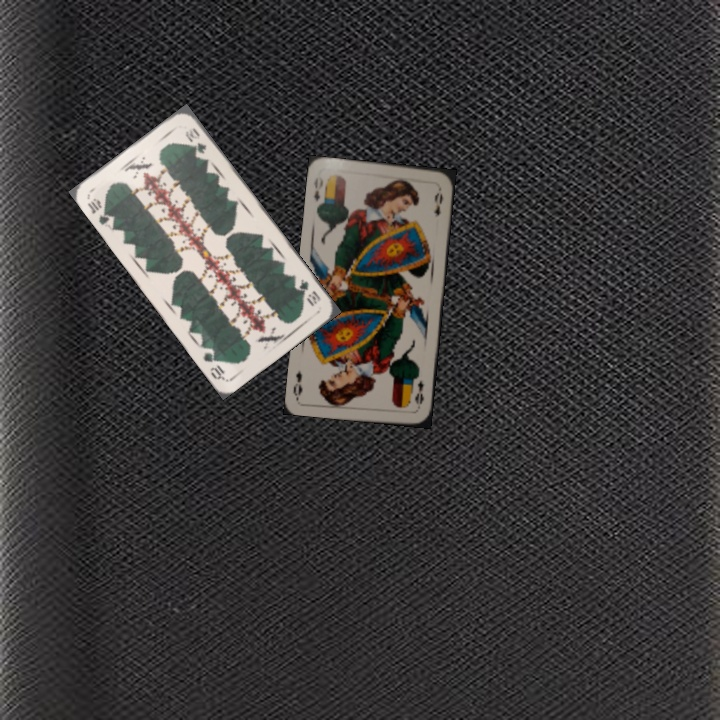EO: (411, 376, 427, 407), (310, 173, 325, 204)
G10: (83, 194, 117, 230), (295, 275, 323, 309)
